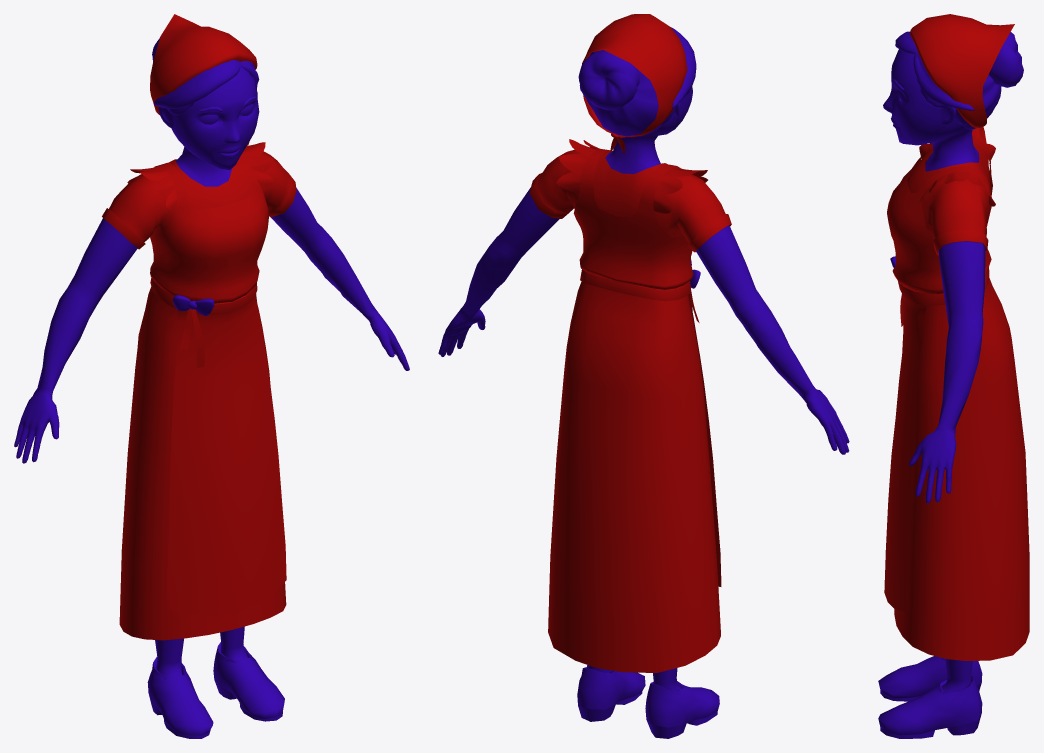
Rendered from SM_bakerNPC.fbx.
3 renders of one model, left to right at view 1: azimuth 30°, elevation 25°; view 2: azimuth 150°, elevation 25°; view 3: azimuth 270°, elevation 25°, orthographic. The views are drawn at different scales.
Parts seen in each view (by area): view 1: eyebrows_low1; view 2: eyebrows_low1; view 3: eyebrows_low1.
Part boxes in pixels (x1,y1,x2,y2): eyebrows_low1: (14,14,409,738); eyebrows_low1: (438,14,849,738); eyebrows_low1: (878,14,1029,738).
Bounding box in the file's own units: 17.43 × 28.78 × 5.68.
